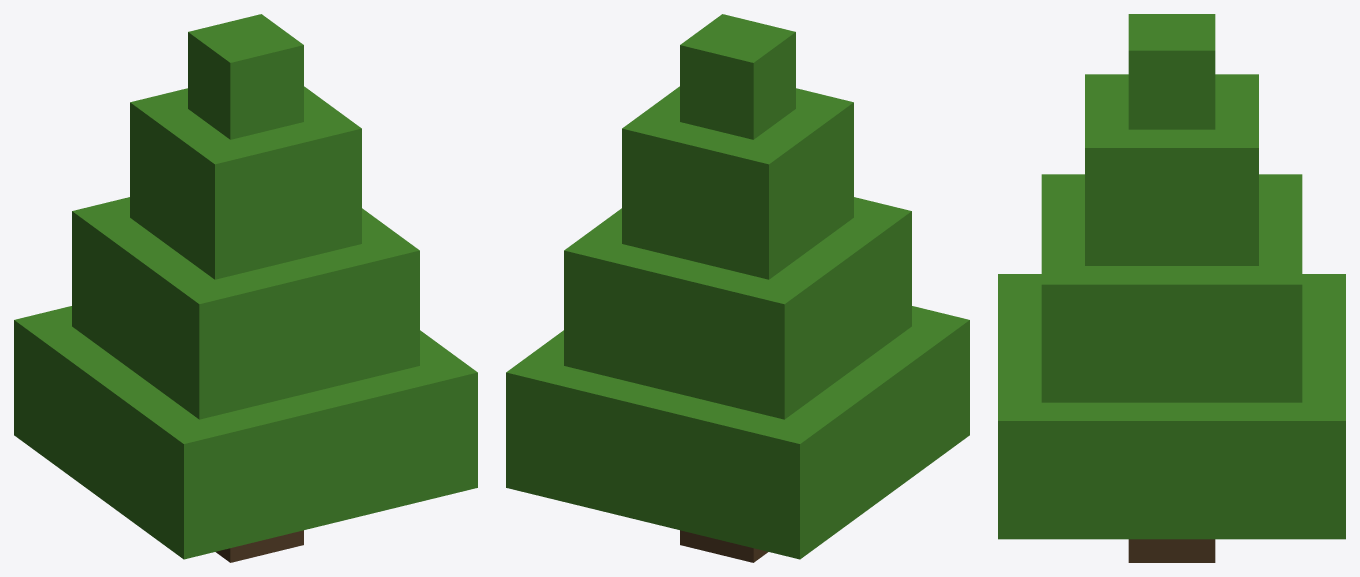
The model's file is Tree-4.obj.
3 renders of one model, left to right at view 1: azimuth 30°, elevation 25°; view 2: azimuth 150°, elevation 25°; view 3: azimuth 270°, elevation 25°, orthographic. The views are drawn at different scales.
Bounding box in the file's own units: 0.8 × 1.3 × 0.8.
Materials: 1 (1 with a texture image).
